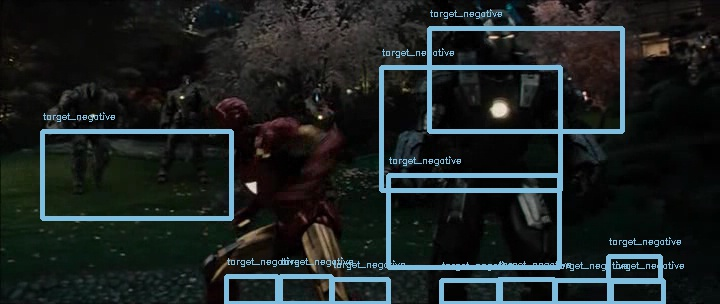person: (206, 94, 249, 149), (205, 94, 248, 149), (207, 94, 250, 149), (206, 93, 249, 148), (206, 95, 249, 150)
target_negative: (409, 29, 708, 293), (632, 85, 702, 277), (246, 1, 517, 36), (10, 102, 382, 122), (604, 172, 683, 222), (612, 15, 638, 96)
